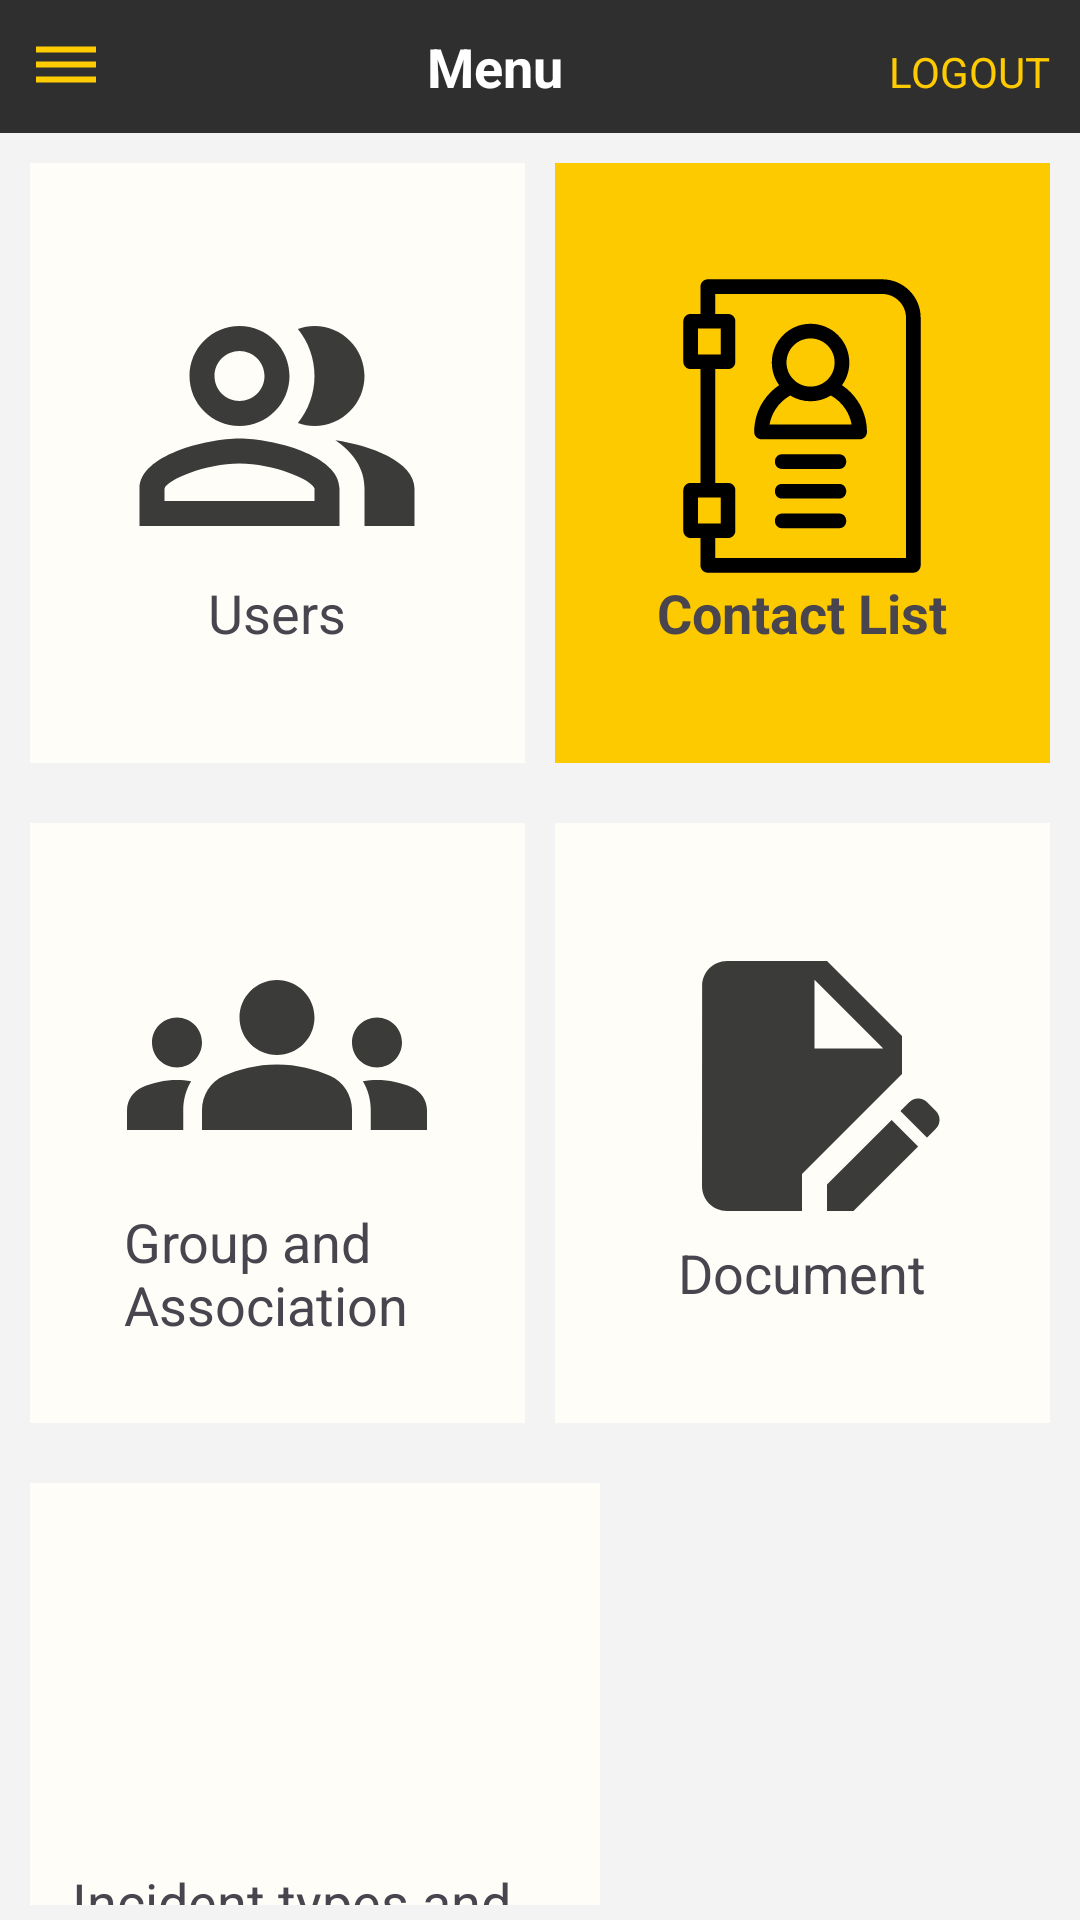

Screen size 1080x1920. Icon name, then its box in pixels as (x1,y1,x2,y2):
dehaze: (36,46,96,83)
people: (139,326,415,526)
